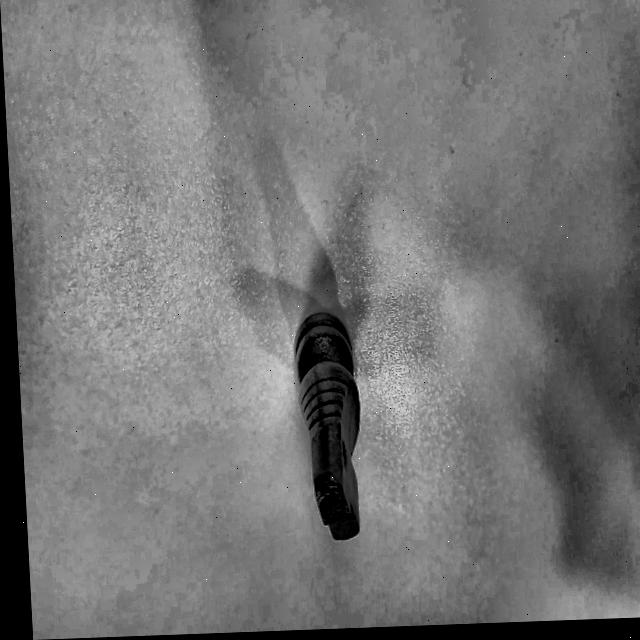black-knight: (281, 298, 374, 548)
